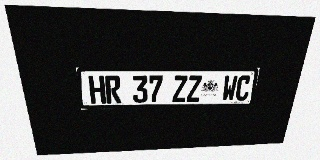3: (132, 76, 148, 103)
7: (148, 76, 163, 103)
C: (235, 75, 252, 101)
H: (88, 76, 106, 104)
R: (105, 76, 121, 103)
W: (221, 75, 238, 101)
Z: (186, 75, 202, 102), (172, 76, 188, 102)
